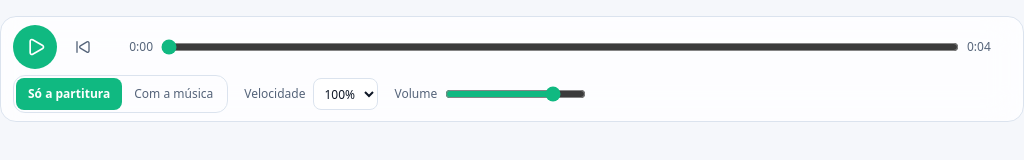
Test: score player › plays the notes alone at its speed, pausing the song player
Select "75%" in the dropdown at (346, 94), box [314,78,378,110]
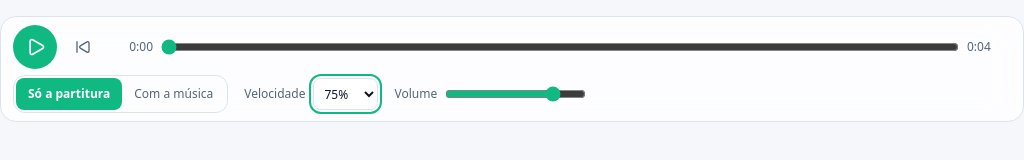
Click the button named "Tocar a partitura" at (35, 47), box [13,25,57,69]
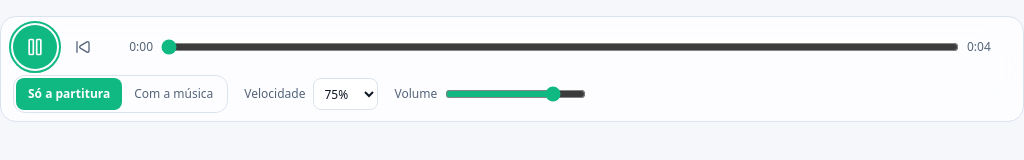
expect the button named "Pausar a partitura" is shown: met, box [13,25,57,69]
